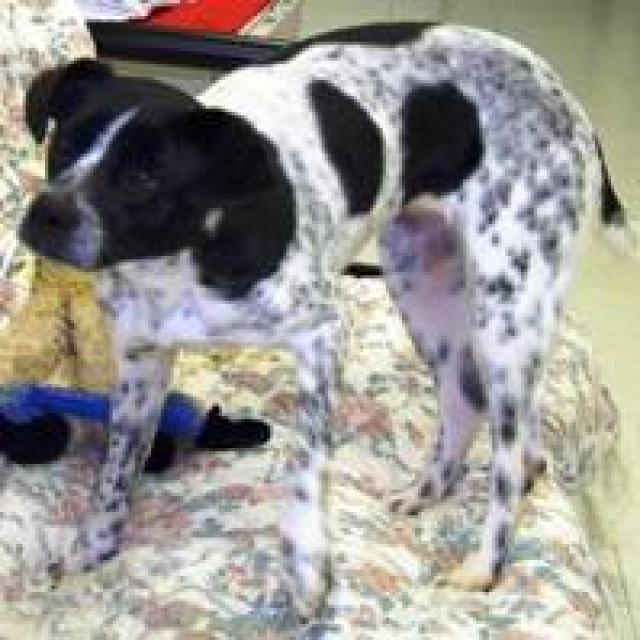dog: (13, 19, 637, 634)
